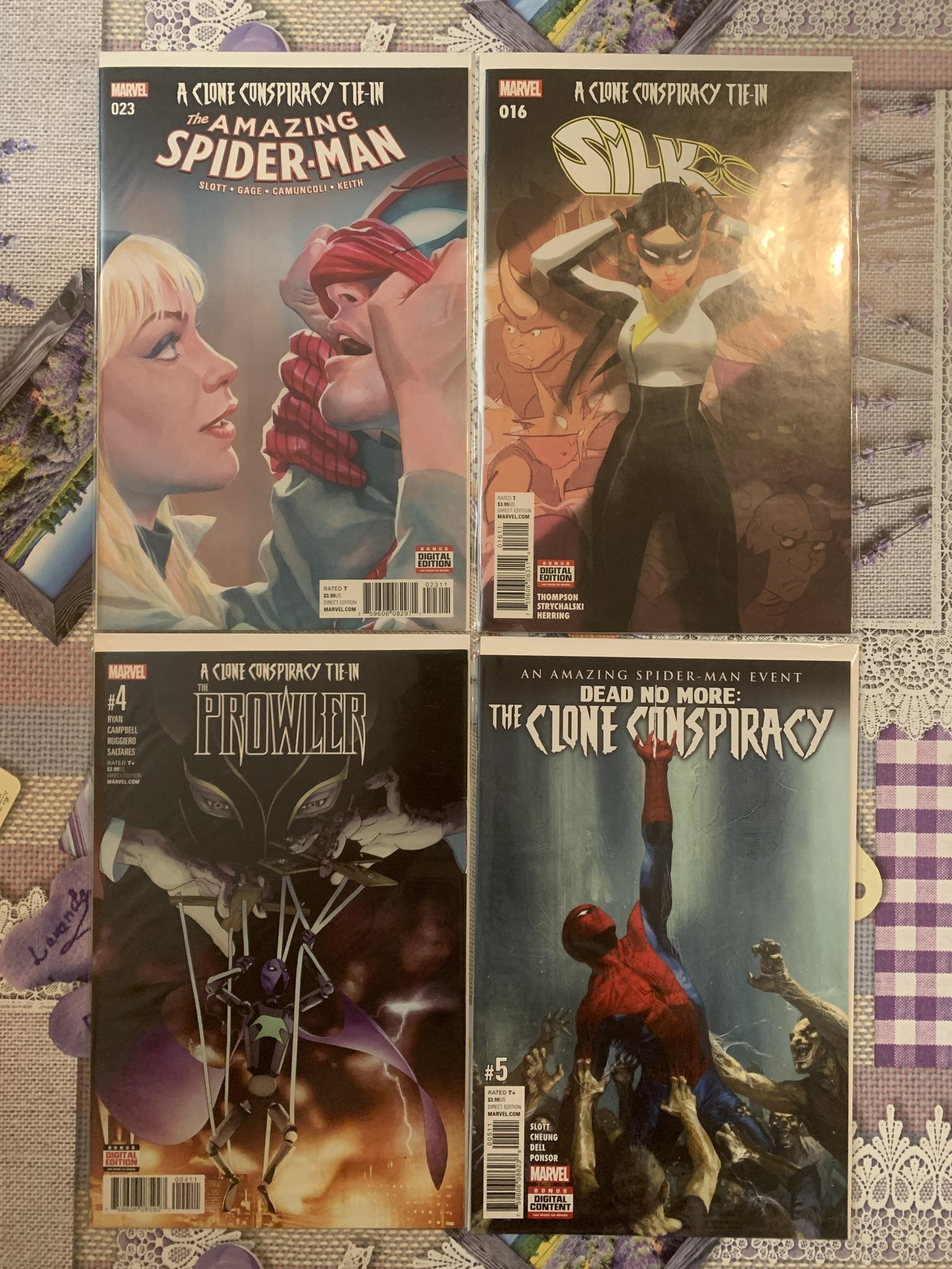comic: (467, 636, 860, 1268), (90, 634, 468, 1227), (97, 52, 470, 633), (478, 54, 852, 633)
